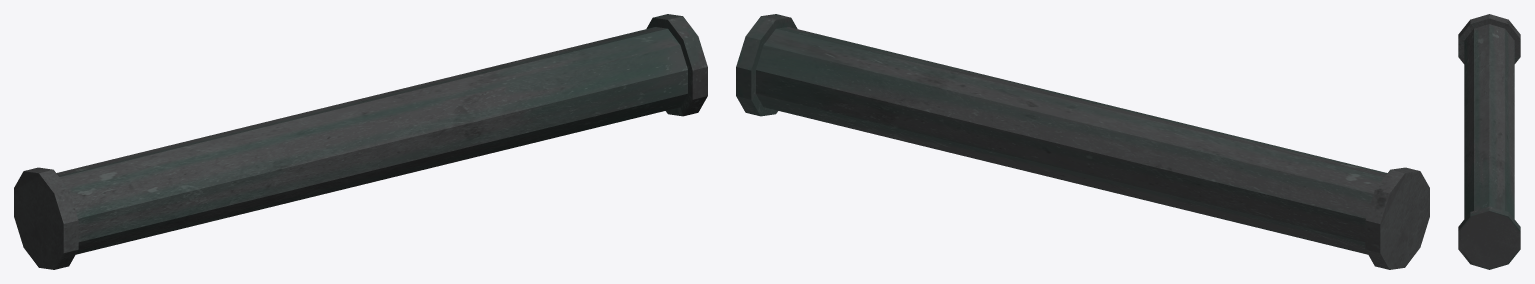
The model's file is Pipe Long Medium.fbx.
The picture shows the model from 3 angles, left to right: view 1: azimuth 30°, elevation 25°; view 2: azimuth 150°, elevation 25°; view 3: azimuth 270°, elevation 25°; orthographic projection. The views are drawn at different scales.
Parts seen in each view (by area): view 1: Straight_Long_M; view 2: Straight_Long_M; view 3: Straight_Long_M.
Part boxes in pixels (x1,y1,x2,y2): Straight_Long_M: (14, 14, 707, 269); Straight_Long_M: (736, 14, 1429, 269); Straight_Long_M: (1458, 14, 1520, 269).
Size of the model in its own units: 17.57 by 2.46 by 2.34.
1 material, 1 textured.
